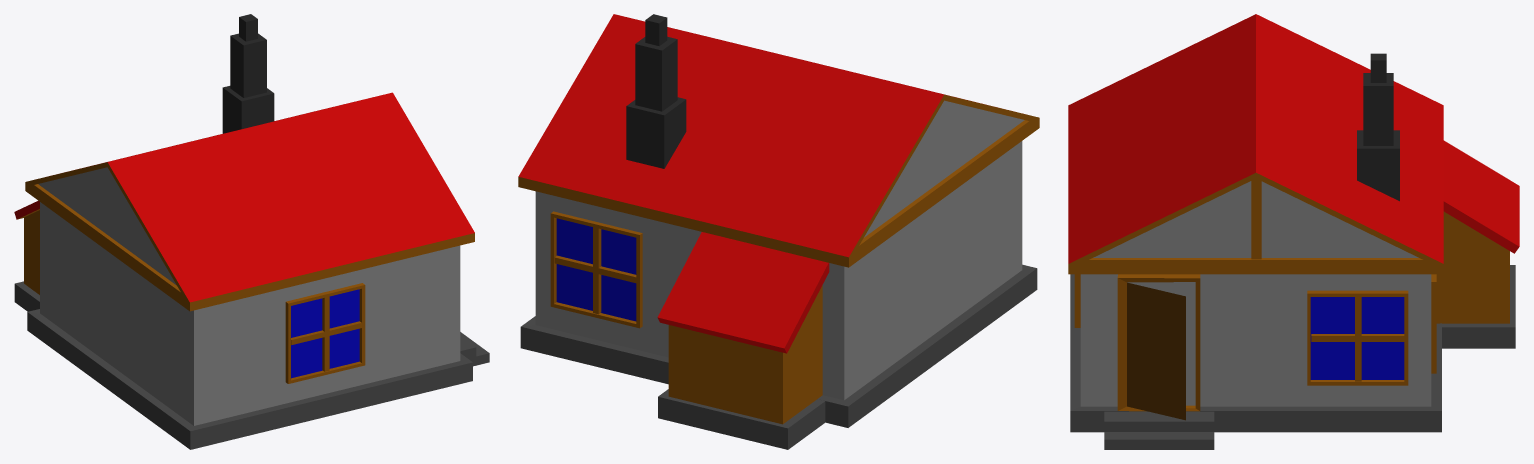
Rendered from house.glb.
3 views of the same model, side by side, from view 1: azimuth 30°, elevation 25°; view 2: azimuth 150°, elevation 25°; view 3: azimuth 270°, elevation 25° (orthographic). The views are drawn at different scales.
Visible parts, largest first — view 1: Cube-col; view 2: Cube-col; view 3: Cube-col.
Boxes of the visible parts, <box> form: Cube-col: <box>14,14,489,449</box>; Cube-col: <box>518,14,1039,449</box>; Cube-col: <box>1068,14,1519,449</box>.
Size of the model in its own units: 3.99 by 3.46 by 4.34.
1 material, 1 textured.
